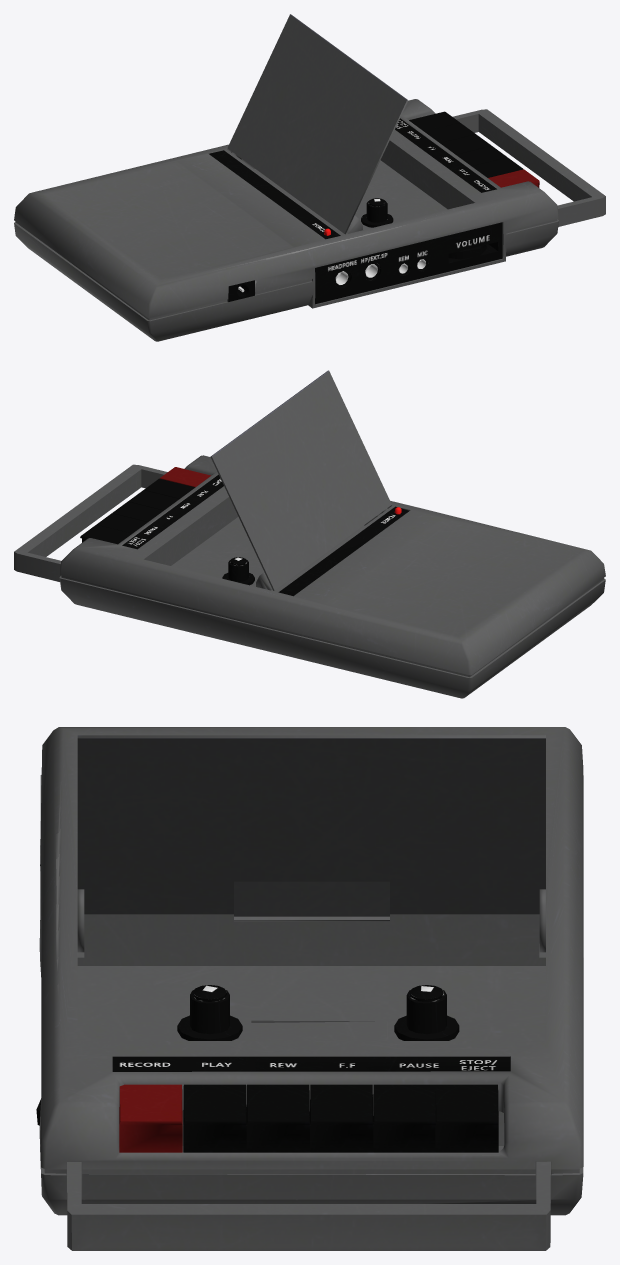
The model's file is Volume_Wheel_LOD1.glb.
3 renders of one model, top to bottom at view 1: azimuth 30°, elevation 25°; view 2: azimuth 150°, elevation 25°; view 3: azimuth 270°, elevation 25°, orthographic. The views are drawn at different scales.
Parts seen in each view (by area): view 1: Cassete_player_Body_LOD1, Cassete_player_Top_LOD1, Button2._LOD1, Button3_LOD1, Button4_LOD1, Button5._LOD1, Button6_LOD1, Button1_LOD1; view 2: Cassete_player_Body_LOD1, Cassete_player_Top_LOD1, Button1_LOD1, Button3_LOD1, Button4_LOD1, Button2._LOD1, Button6_LOD1, Button5._LOD1; view 3: Cassete_player_Body_LOD1, Cassete_player_Top_LOD1, Button2._LOD1, Button1_LOD1, Button3_LOD1, Button4_LOD1, Button6_LOD1, Button5._LOD1.
Boxes of the visible parts, bbox=[...] form: Cassete_player_Body_LOD1: bbox=[14, 99, 605, 341]; Cassete_player_Top_LOD1: bbox=[227, 14, 408, 234]; Button2._LOD1: bbox=[472, 157, 523, 177]; Button3_LOD1: bbox=[456, 146, 507, 166]; Button4_LOD1: bbox=[440, 134, 491, 154]; Button5._LOD1: bbox=[424, 123, 475, 142]; Button6_LOD1: bbox=[409, 111, 459, 131]; Button1_LOD1: bbox=[488, 169, 539, 187]; Cassete_player_Body_LOD1: bbox=[14, 455, 605, 698]; Cassete_player_Top_LOD1: bbox=[210, 370, 391, 590]; Button1_LOD1: bbox=[160, 467, 210, 487]; Button3_LOD1: bbox=[128, 490, 179, 510]; Button4_LOD1: bbox=[112, 501, 163, 521]; Button2._LOD1: bbox=[144, 478, 194, 498]; Button6_LOD1: bbox=[80, 525, 131, 544]; Button5._LOD1: bbox=[96, 513, 147, 533]; Cassete_player_Body_LOD1: bbox=[39, 727, 583, 1250]; Cassete_player_Top_LOD1: bbox=[77, 735, 545, 952]; Button2._LOD1: bbox=[183, 1084, 246, 1152]; Button1_LOD1: bbox=[119, 1084, 182, 1152]; Button3_LOD1: bbox=[246, 1084, 309, 1152]; Button4_LOD1: bbox=[310, 1084, 373, 1152]; Button6_LOD1: bbox=[435, 1084, 498, 1152]; Button5._LOD1: bbox=[373, 1084, 436, 1152].
Bounding box in the file's own units: 3.64 × 1.32 × 1.86.
2 materials, 1 textured.
